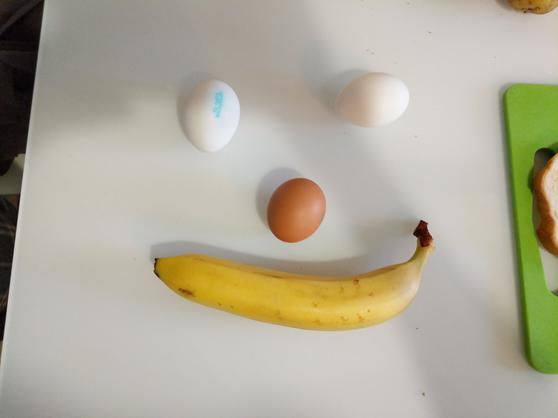banana: (149, 219, 435, 333)
egg: (185, 79, 242, 155), (264, 176, 327, 244), (342, 72, 409, 133)
